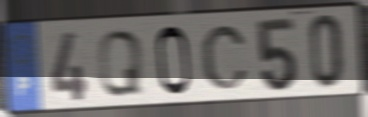0: (307, 12, 348, 92), (155, 23, 192, 98)
4: (49, 27, 91, 104)
5: (254, 15, 299, 94)
C: (199, 23, 250, 92)
Q: (96, 27, 145, 99)
